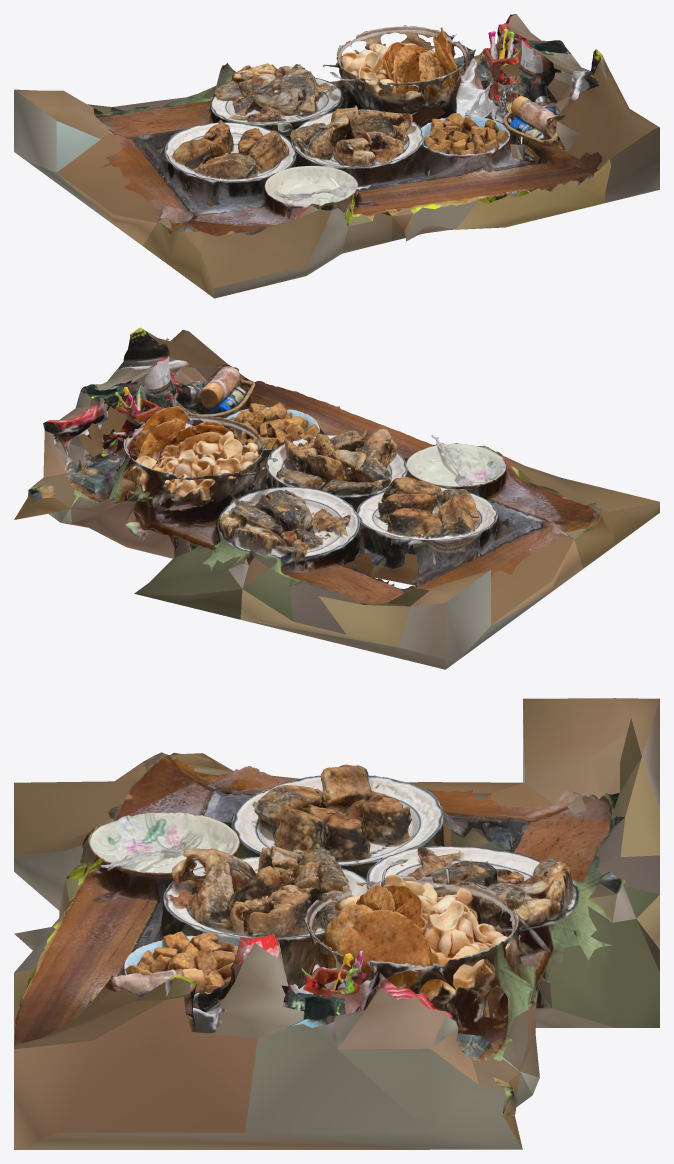
Rendered from ikan-goreng.glb.
The picture shows the model from 3 angles, top to bottom: view 1: azimuth 30°, elevation 25°; view 2: azimuth 150°, elevation 25°; view 3: azimuth 270°, elevation 25°; orthographic projection. The views are drawn at different scales.
Parts seen in each view (by area): view 1: model; view 2: model; view 3: model.
Part boxes in pixels (box(x1,y1,x2,y2)): model: box(14, 14, 659, 298); model: box(14, 327, 659, 669); model: box(14, 698, 659, 1149).
Size of the model in its own units: 1.06 by 0.2466 by 0.8277.
Materials: 1 (1 with a texture image).
